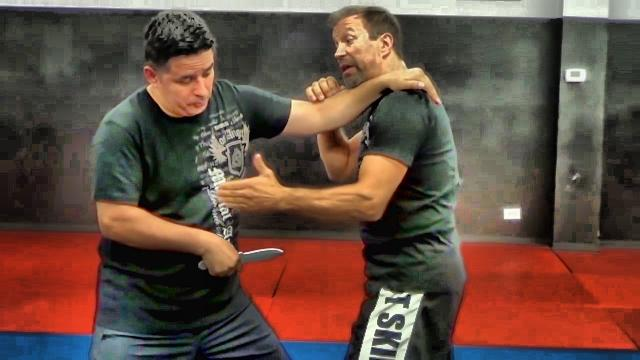knife: (197, 243, 287, 275)
